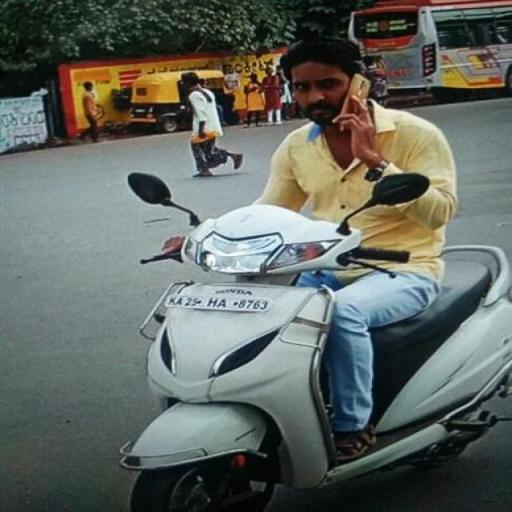numberplate: (161, 291, 278, 318)
using mobile: (334, 70, 380, 140)
